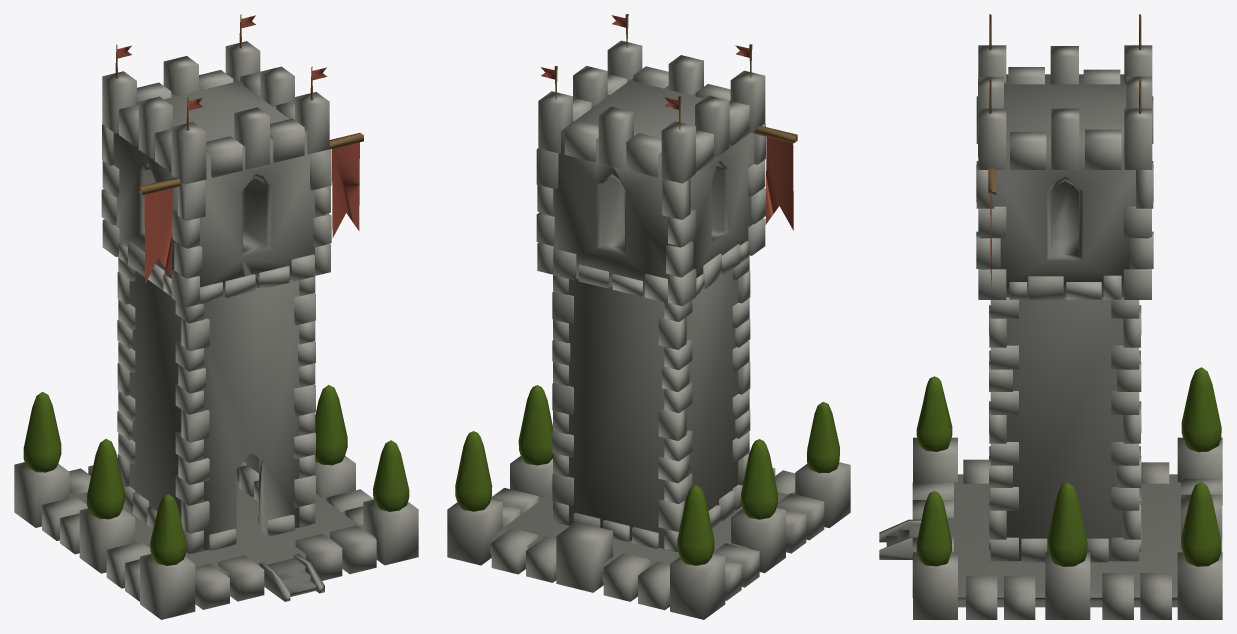
Rendered from tower-0-3.glb.
The picture shows the model from 3 angles, left to right: view 1: azimuth 30°, elevation 25°; view 2: azimuth 150°, elevation 25°; view 3: azimuth 270°, elevation 25°; orthographic projection. The views are drawn at different scales.
Visible parts, largest first — view 1: tower:0-3; view 2: tower:0-3; view 3: tower:0-3.
Part boxes in pixels (x1,y1,x2,y2): tower:0-3: (14, 14, 418, 619); tower:0-3: (447, 14, 850, 619); tower:0-3: (879, 14, 1222, 619).
Bounding box in the file's own units: 2.19 × 3.9 × 2.4.
